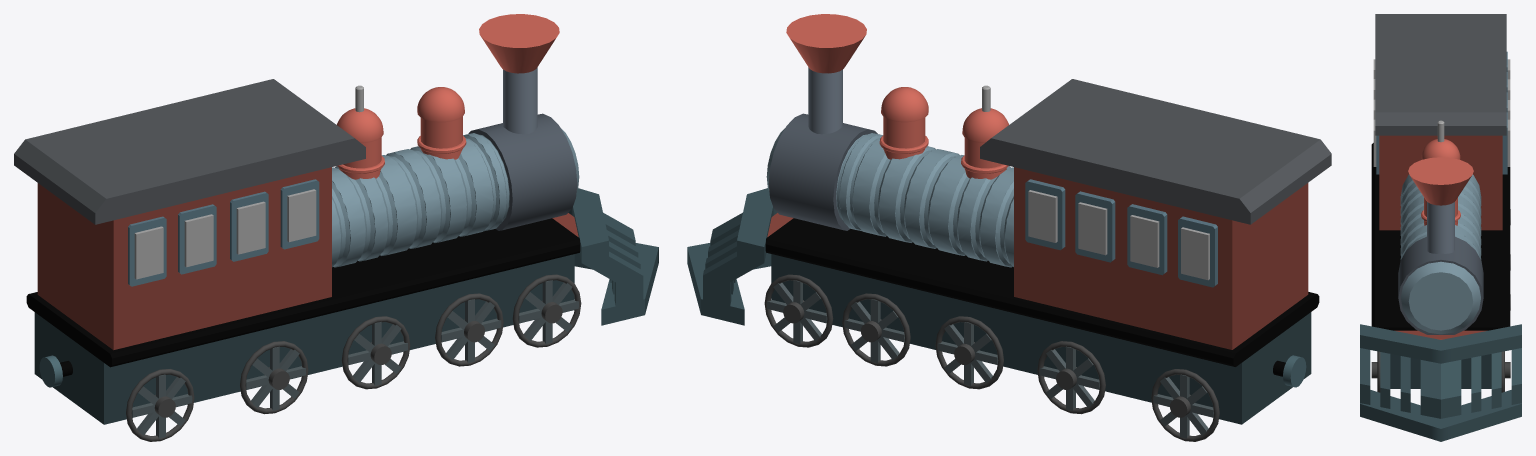
The model's file is train.fbx.
The picture shows the model from 3 angles, left to right: view 1: azimuth 30°, elevation 25°; view 2: azimuth 150°, elevation 25°; view 3: azimuth 270°, elevation 25°; orthographic projection. The views are drawn at different scales.
Parts seen in each view (by area): view 1: pCube3, pCube2, pCube1, polySurface8, pasted__pCube1, pCylinder1, pCube4, pCylinder2, pasted__pCube6 (×2), pasted__pasted__pasted__pCube6 (×2), pasted__pasted__pCube6 (×2), pCylinder3 (+13 smaller); view 2: pCube3, pCube2, pCube1, polySurface8, pasted__pCube1, pCylinder1, pCube4, pCylinder2, pasted__pasted__pasted__pasted__pCube6 (×2), pasted__pasted__pasted__pCube6 (×2), pasted__pasted__pCube6 (×2), pCylinder3 (+13 smaller); view 3: pCube3, pCube4, polySurface8, pasted__pCube1, pCube2, pasted__pCube4, pCylinder1, pCylinder2, pCube1, pCylinder3, polySurface9, pasted__pasted__pasted__pasted__pasted__pCube6 (+2 smaller).
Part boxes in pixels (x1,y1,x2,y2): pCube3: [14, 79, 365, 224]; pCube2: [37, 167, 578, 350]; pCube1: [34, 254, 574, 424]; polySurface8: [332, 128, 579, 267]; pasted__pCube1: [26, 218, 580, 367]; pCylinder1: [468, 113, 577, 230]; pCube4: [568, 188, 643, 308]; pCylinder2: [479, 14, 559, 73]; pasted__pCube6 (×2): [236, 179, 319, 254]; pasted__pasted__pasted__pCube6 (×2): [134, 204, 216, 279]; pasted__pasted__pCube6 (×2): [184, 191, 268, 267]; pCylinder3: [503, 67, 537, 134]; pCube3: [980, 79, 1331, 224]; pCube2: [767, 167, 1308, 349]; pCube1: [771, 254, 1311, 424]; polySurface8: [766, 128, 1013, 267]; pasted__pCube1: [765, 218, 1319, 366]; pCylinder1: [768, 113, 877, 230]; pCube4: [703, 188, 777, 310]; pCylinder2: [786, 14, 866, 73]; pasted__pasted__pasted__pasted__pCube6 (×2): [1028, 190, 1115, 262]; pasted__pasted__pasted__pCube6 (×2): [1078, 202, 1167, 275]; pasted__pasted__pCube6 (×2): [1130, 215, 1217, 287]; pCylinder3: [808, 67, 842, 134]; pCube3: [1375, 14, 1506, 135]; pCube4: [1360, 324, 1521, 418]; polySurface8: [1400, 174, 1481, 334]; pasted__pCube1: [1371, 143, 1510, 330]; pCube2: [1379, 135, 1502, 339]; pasted__pCube4: [1360, 390, 1521, 441]; pCylinder1: [1398, 236, 1483, 334]; pCylinder2: [1408, 157, 1473, 205]; pCube1: [1390, 354, 1491, 388]; pCylinder3: [1427, 202, 1454, 253]; polySurface9: [1421, 139, 1460, 159]; pasted__pasted__pasted__pasted__pasted__pCube6: [1502, 112, 1507, 174].
Bounding box in the file's own units: 22.34 × 9.96 × 6.31.
